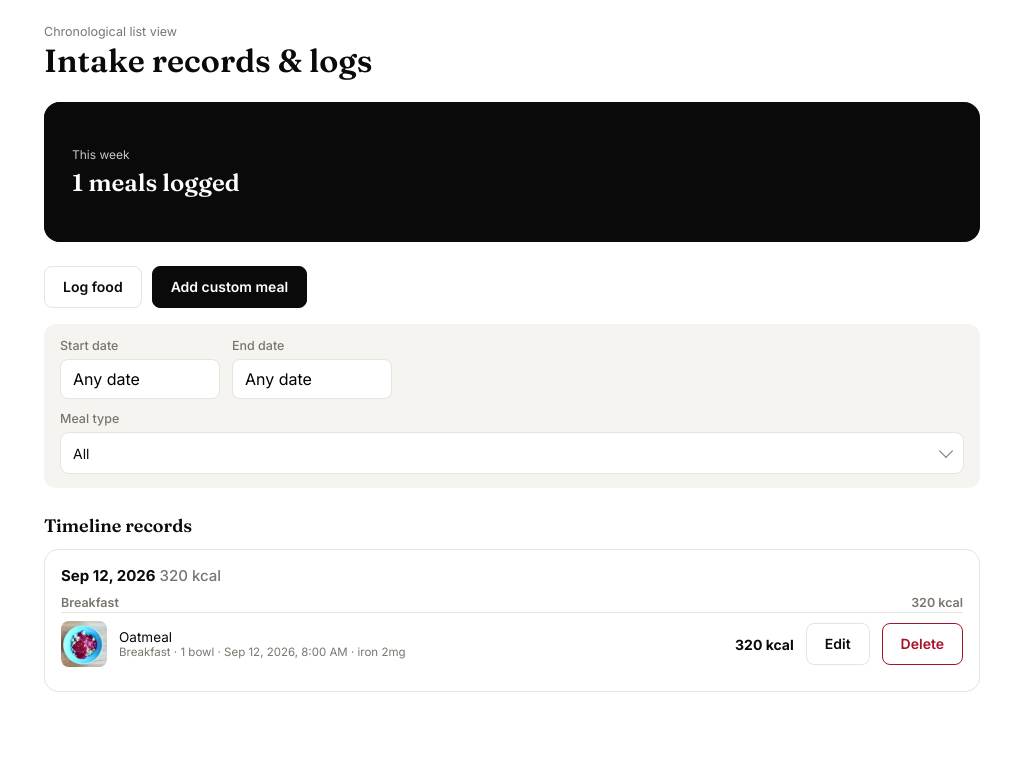
Test: MealsPage › confirms before deleting a meal
Click the button "Delete".
click(922, 644)  # box [882,623,963,665]
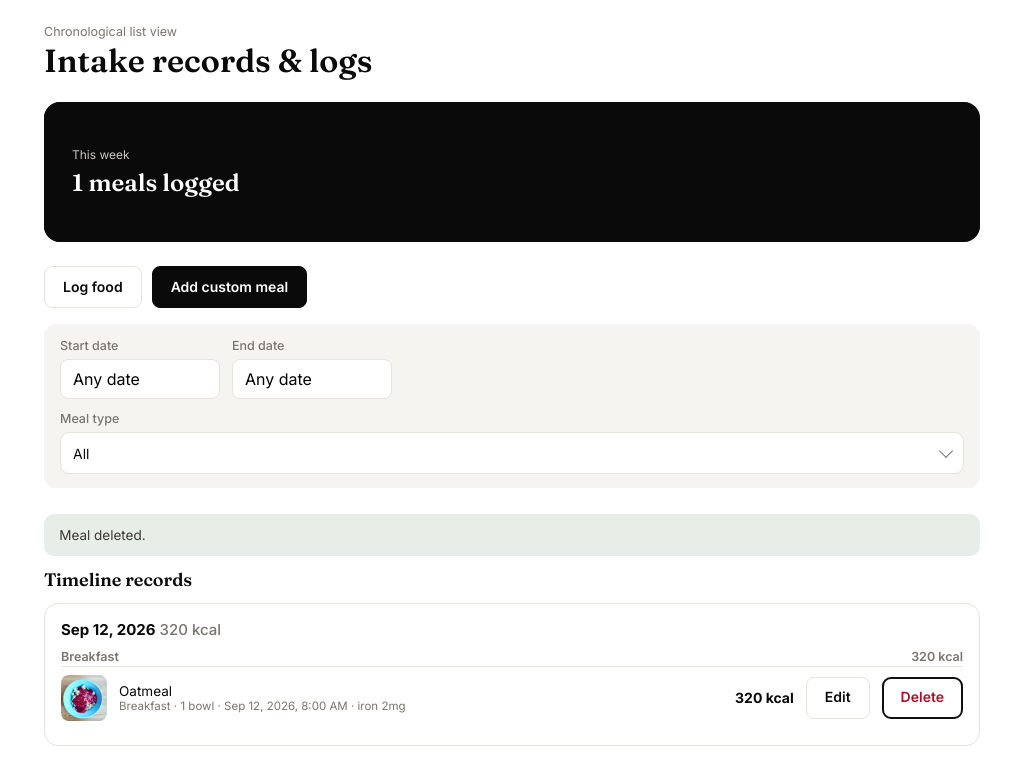
Now the text "Meal deleted." is shown, box [44,514,980,556]
